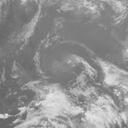cyclone: (33, 37, 107, 111)
